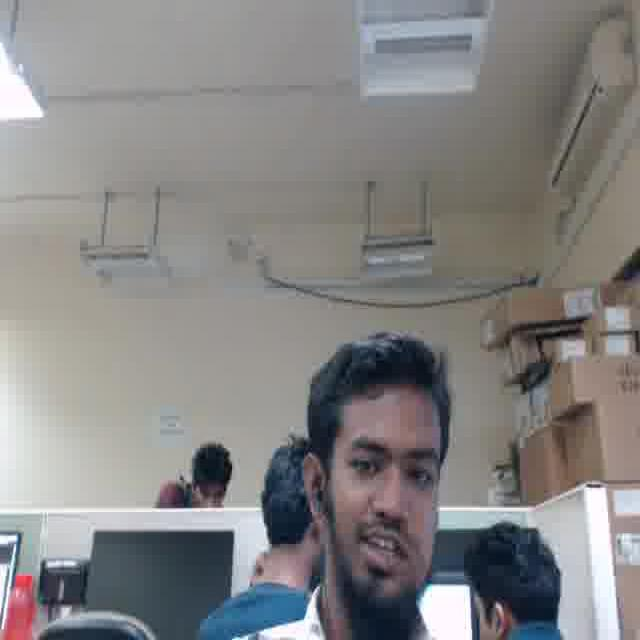Engaged: (327, 394, 444, 602)
